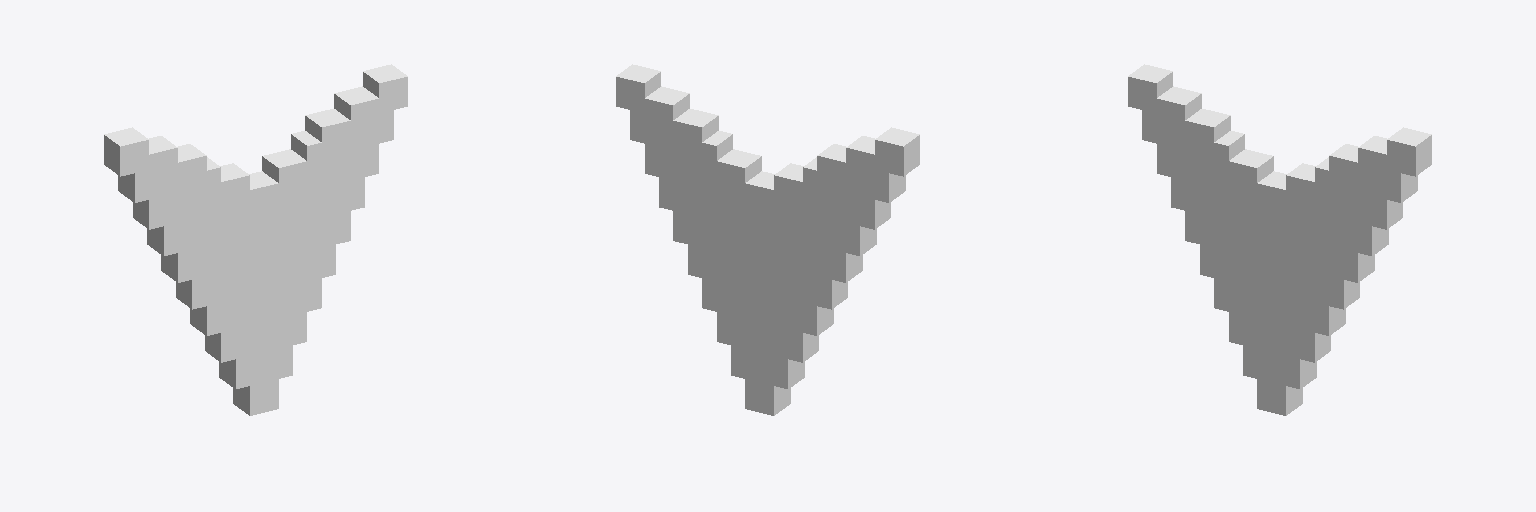
File: MoveTuto-0.obj
The picture shows the model from 3 angles: view 1: azimuth 30°, elevation 25°; view 2: azimuth 150°, elevation 25°; view 3: azimuth 330°, elevation 25°; orthographic projection.
Parts seen in each view (by area): view 1: object 1; view 2: object 1; view 3: object 1.
Boxes of the visible parts, x1=… form: object 1: x1=104, y1=64, x2=407, y2=415; object 1: x1=616, y1=64, x2=919, y2=415; object 1: x1=1128, y1=64, x2=1431, y2=415.
Bounding box in the file's own units: 2 × 2 × 0.2.